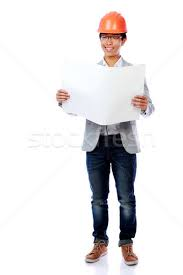Person_wearing_helmet: (94, 10, 128, 42)
